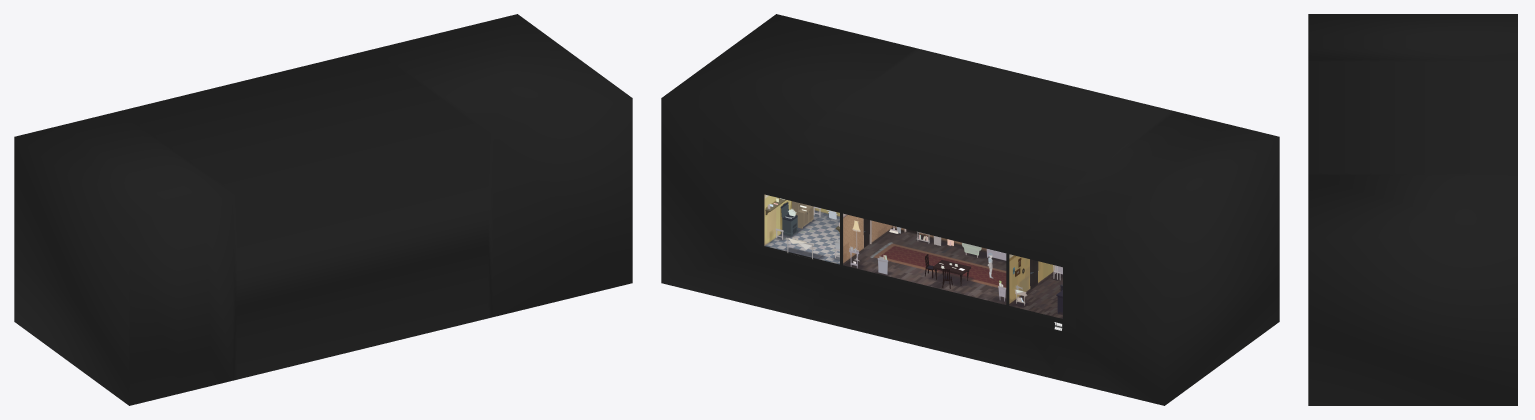
File: torn_away_-_new_home_interior.glb
The picture shows the model from 3 angles, left to right: view 1: azimuth 30°, elevation 25°; view 2: azimuth 150°, elevation 25°; view 3: azimuth 270°, elevation 25°; orthographic projection. The views are drawn at different scales.
Parts seen in each view (by area): view 1: newHome_roomKitchen; view 2: newHome_roomKitchen; view 3: newHome_roomKitchen.
Boxes of the visible parts, x1,y1,x2,y2 form: newHome_roomKitchen: (14, 14, 632, 405); newHome_roomKitchen: (661, 14, 1279, 405); newHome_roomKitchen: (1308, 14, 1517, 405).
Bounding box in the file's own units: 8.45 × 2.95 × 3.37.
Materials: 73 (68 with a texture image).
